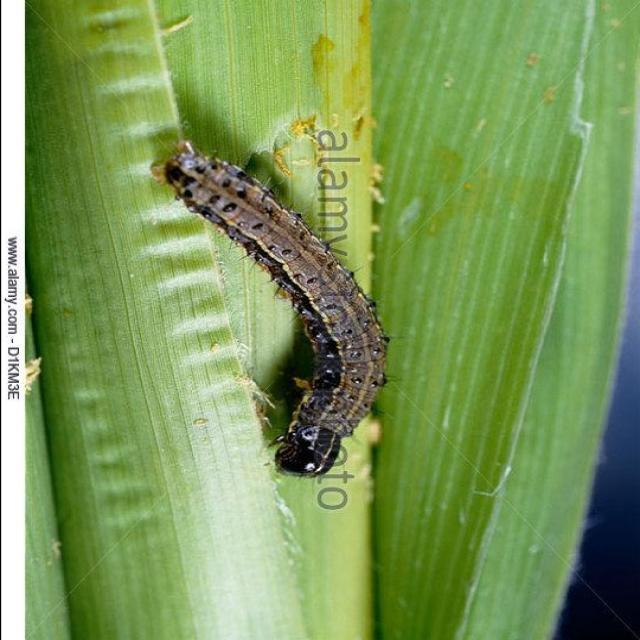army worm: (152, 141, 396, 484)
